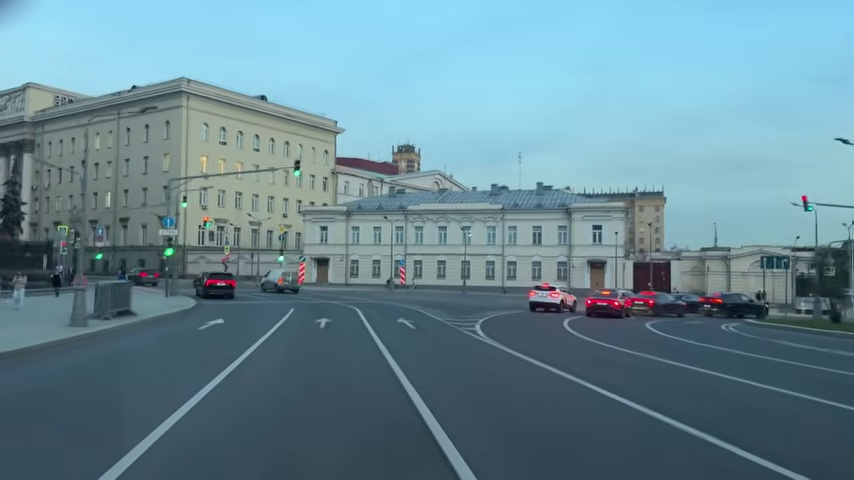apagada: (831, 133, 852, 149)
